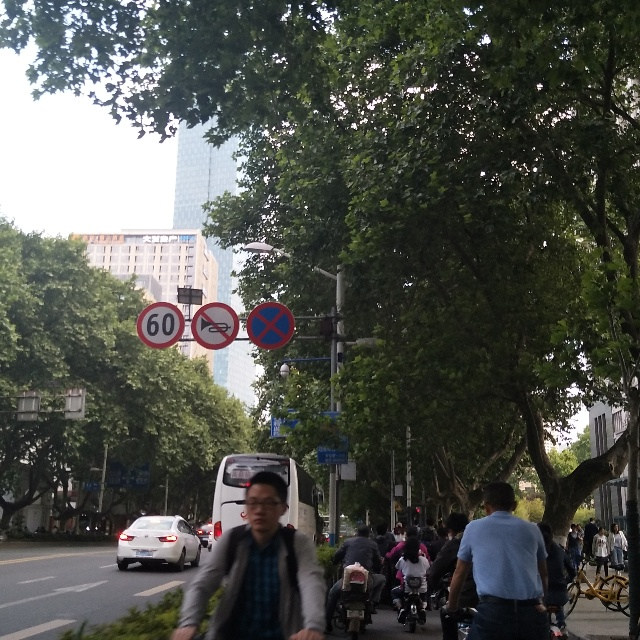nohonk: (197, 302, 235, 347)
stop: (251, 301, 292, 354)
